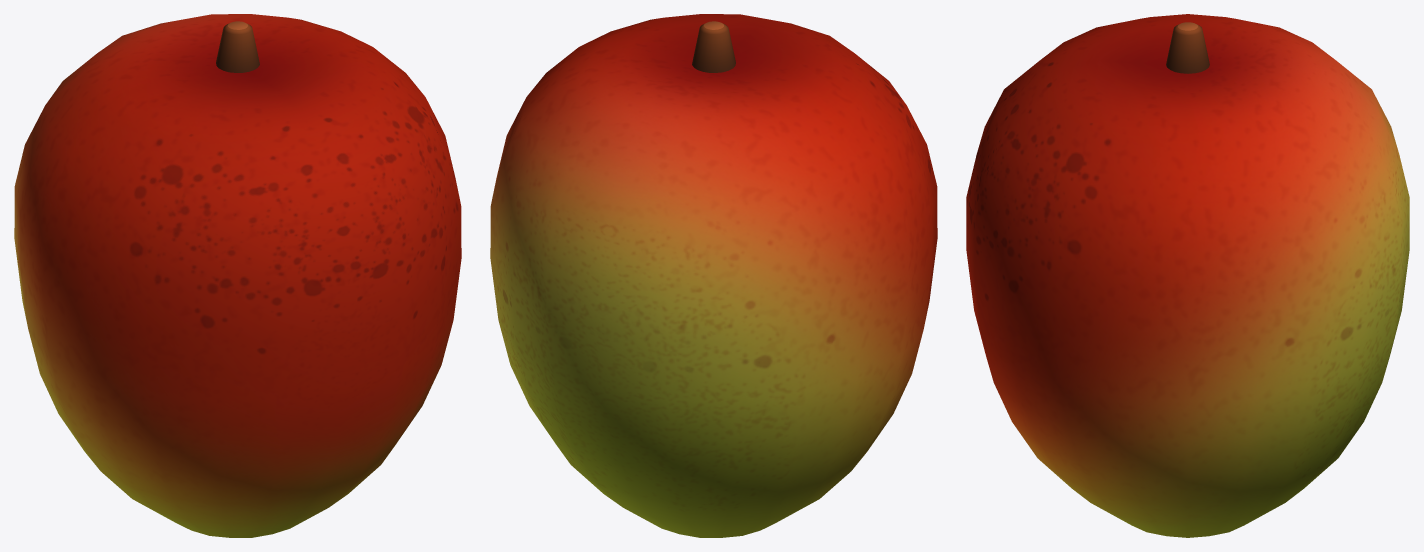
Rendered from Mango_Red.fbx.
3 renders of one model, left to right at view 1: azimuth 30°, elevation 25°; view 2: azimuth 150°, elevation 25°; view 3: azimuth 270°, elevation 25°, orthographic.
Visible parts, largest first — view 1: Mango_Red; view 2: Mango_Red; view 3: Mango_Red.
Part boxes in pixels (x1=…): Mango_Red: x1=14, y1=14, x2=461, y2=537; Mango_Red: x1=490, y1=14, x2=937, y2=537; Mango_Red: x1=966, y1=14, x2=1409, y2=537.
Bounding box in the file's own units: 37.44 × 46.47 × 37.03.
